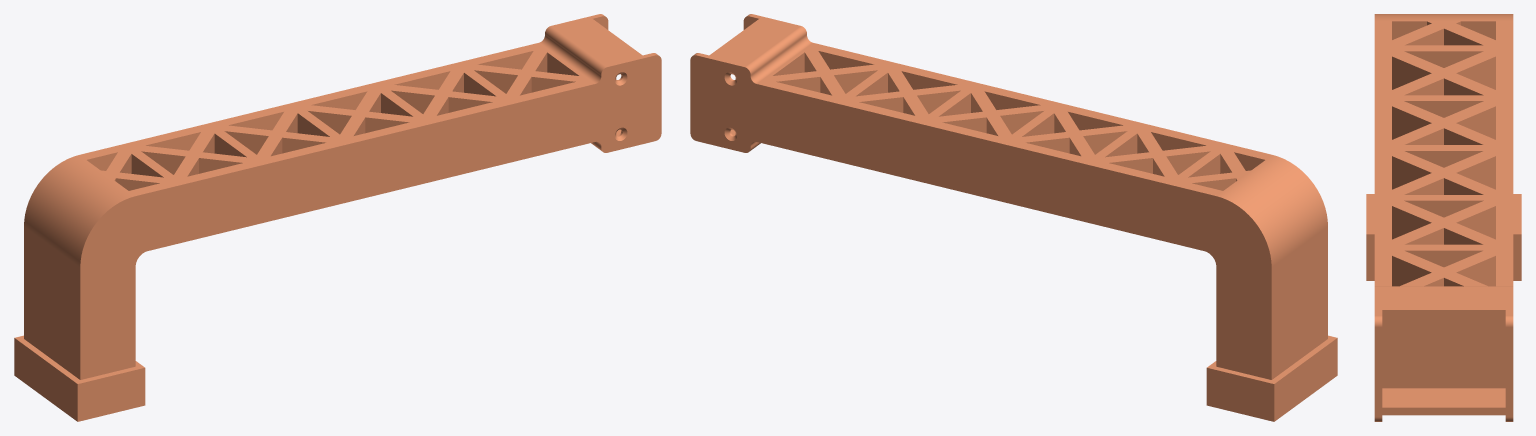
Rendered from Right Arm - Part 2 (2).gltf.
3 renders of one model, left to right at view 1: azimuth 30°, elevation 25°; view 2: azimuth 150°, elevation 25°; view 3: azimuth 270°, elevation 25°, orthographic. The views are drawn at different scales.
Parts seen in each view (by area): view 1: Part 2; view 2: Part 2; view 3: Part 2.
Boxes of the visible parts, x1,y1,x2,y2 form: Part 2: [14, 14, 661, 421]; Part 2: [690, 14, 1337, 421]; Part 2: [1366, 14, 1521, 421].
Bounding box in the file's own units: 0.2437 × 0.0881 × 0.0455.
